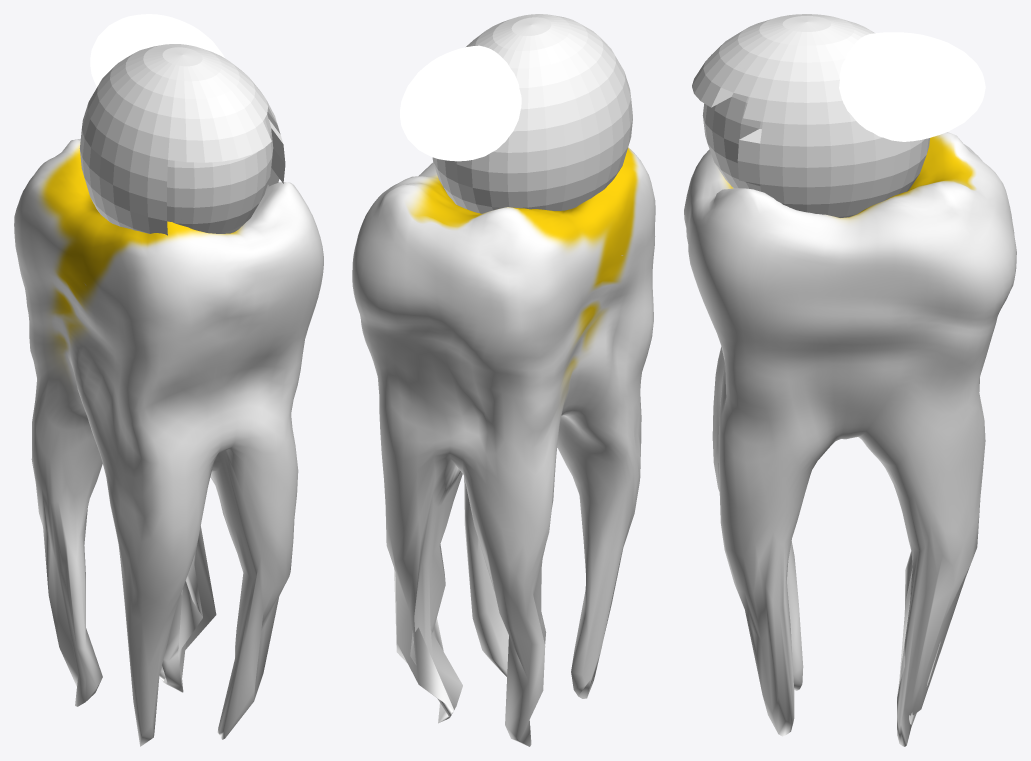
The model's file is karies-gigi2.gltf.glb.
The picture shows the model from 3 angles, left to right: view 1: azimuth 30°, elevation 25°; view 2: azimuth 150°, elevation 25°; view 3: azimuth 270°, elevation 25°; orthographic projection. The views are drawn at different scales.
Parts seen in each view (by area): view 1: Sphere, bulet, bulet.001; view 2: Sphere, bulet, bulet.001; view 3: Sphere, bulet, bulet.001.
Boxes of the visible parts, x1=… form: Sphere: x1=14, y1=139, x2=323, y2=746; bulet: x1=79, y1=44, x2=285, y2=235; bulet.001: x1=90, y1=14, x2=224, y2=86; Sphere: x1=352, y1=147, x2=655, y2=746; bulet: x1=432, y1=14, x2=632, y2=213; bulet.001: x1=400, y1=45, x2=521, y2=161; Sphere: x1=684, y1=132, x2=1016, y2=746; bulet: x1=692, y1=14, x2=929, y2=217; bulet.001: x1=839, y1=32, x2=985, y2=141.
Bounding box in the file's own units: 1.22 × 3.83 × 1.65.
3 materials, 1 textured.
